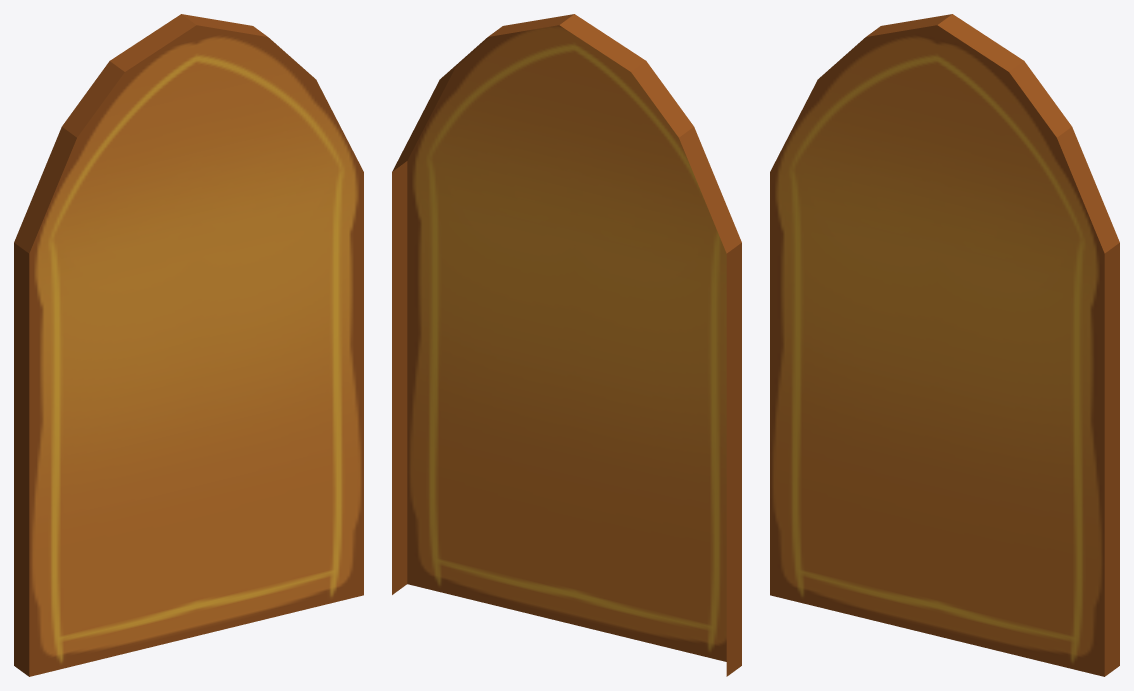
Rendered from desertDoor_MESH.fbx.
3 renders of one model, left to right at view 1: azimuth 30°, elevation 25°; view 2: azimuth 150°, elevation 25°; view 3: azimuth 330°, elevation 25°, orthographic.
Parts seen in each view (by area): view 1: Desert_Door; view 2: Desert_Door; view 3: Desert_Door.
Boxes of the visible parts, x1,y1,x2,y2 form: Desert_Door: (14,14,363,676); Desert_Door: (392,14,741,676); Desert_Door: (770,14,1119,676).
Bounding box in the file's own units: 100 × 174 × 7.91.
